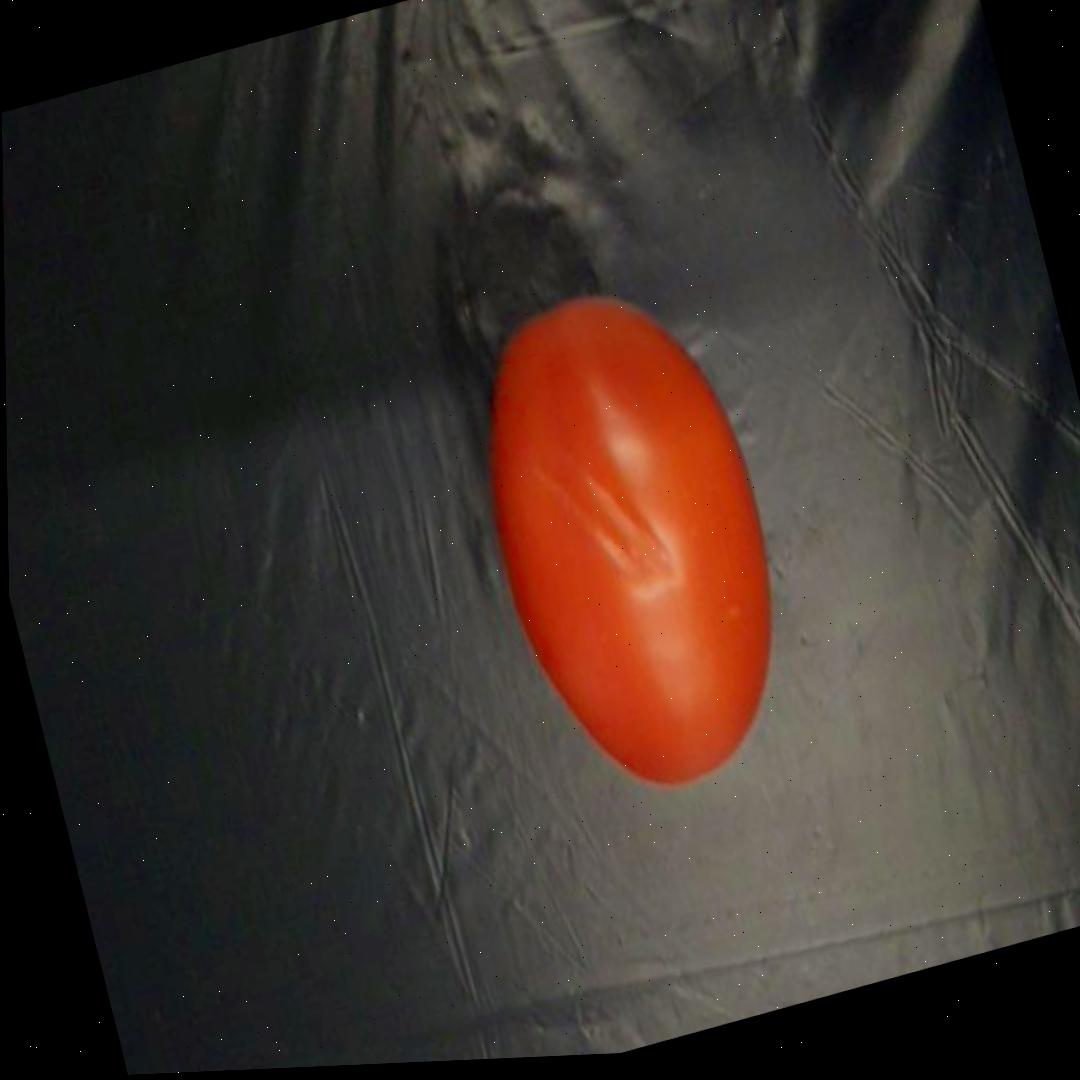matang: (445, 257, 817, 819)
